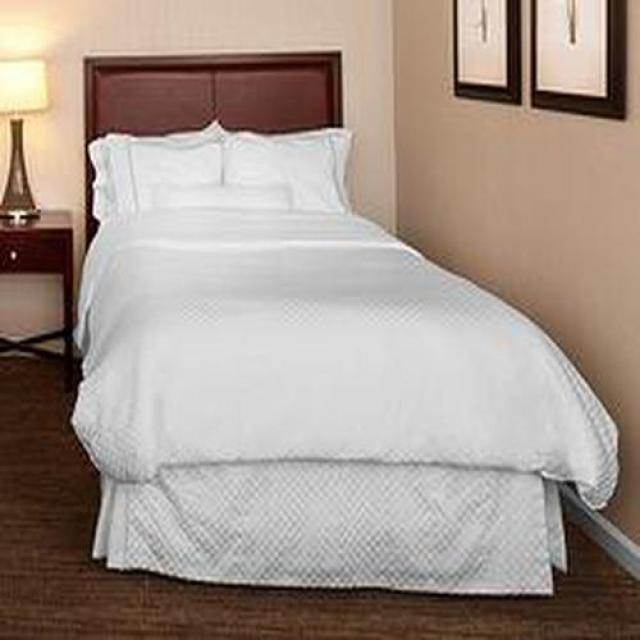bed: (69, 54, 622, 600)
